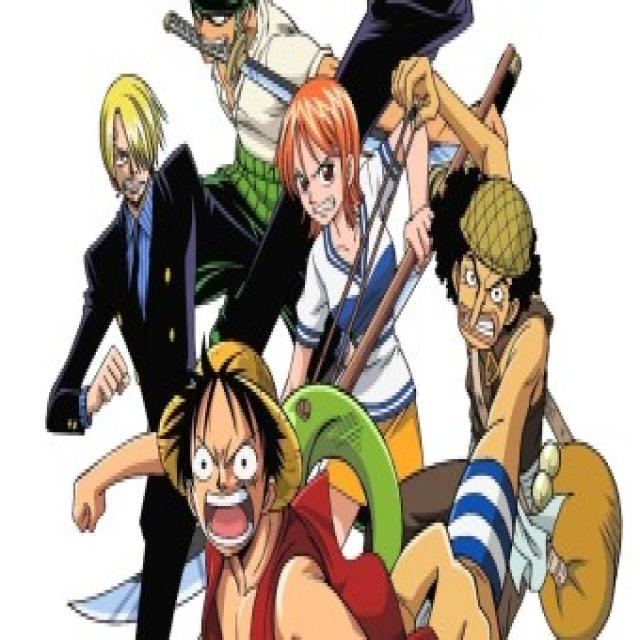Luffy: (154, 334, 304, 551)
Nami: (275, 77, 365, 246)
Sangdi: (94, 60, 173, 222)
Usopp: (430, 172, 544, 360)
Zoro: (182, 0, 270, 67)
